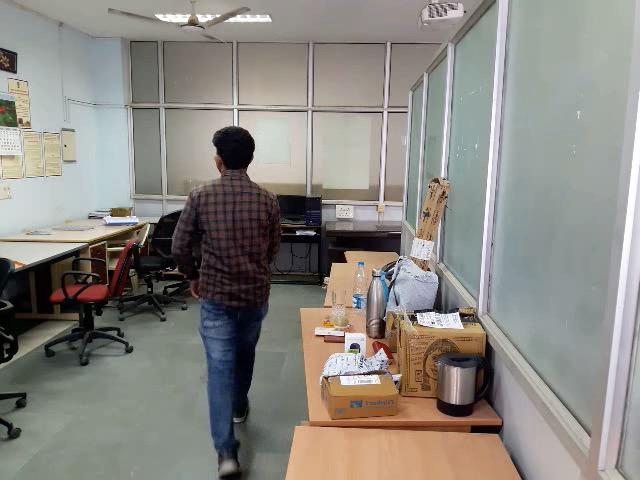shoplifting: (134, 244, 272, 313)
